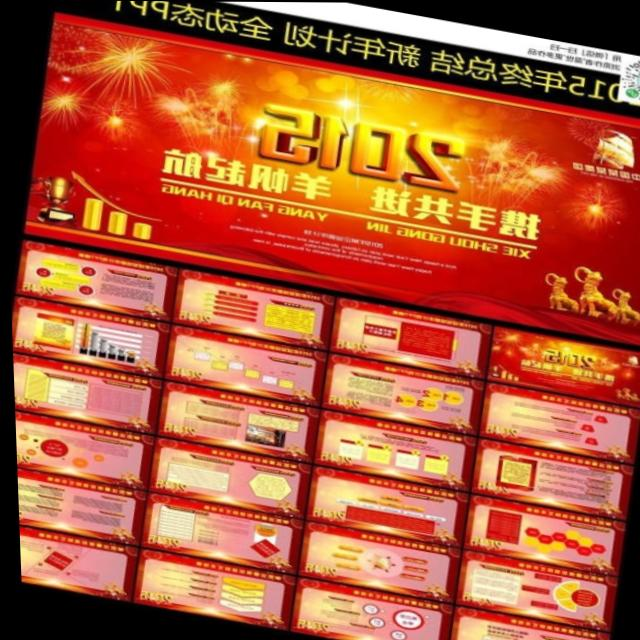box: (125, 548, 287, 629), (159, 326, 321, 407), (326, 296, 488, 377), (449, 548, 611, 629), (14, 239, 175, 320), (134, 492, 295, 573), (141, 436, 302, 517), (169, 269, 330, 350), (318, 353, 479, 434), (298, 463, 459, 544), (294, 519, 455, 600), (478, 380, 639, 461), (147, 382, 309, 462), (306, 409, 467, 489), (466, 438, 627, 518), (460, 493, 621, 573), (482, 323, 640, 404), (9, 296, 165, 377), (10, 353, 153, 432), (285, 575, 447, 640), (12, 410, 145, 487), (14, 468, 137, 542), (15, 525, 129, 599), (444, 604, 602, 640)
